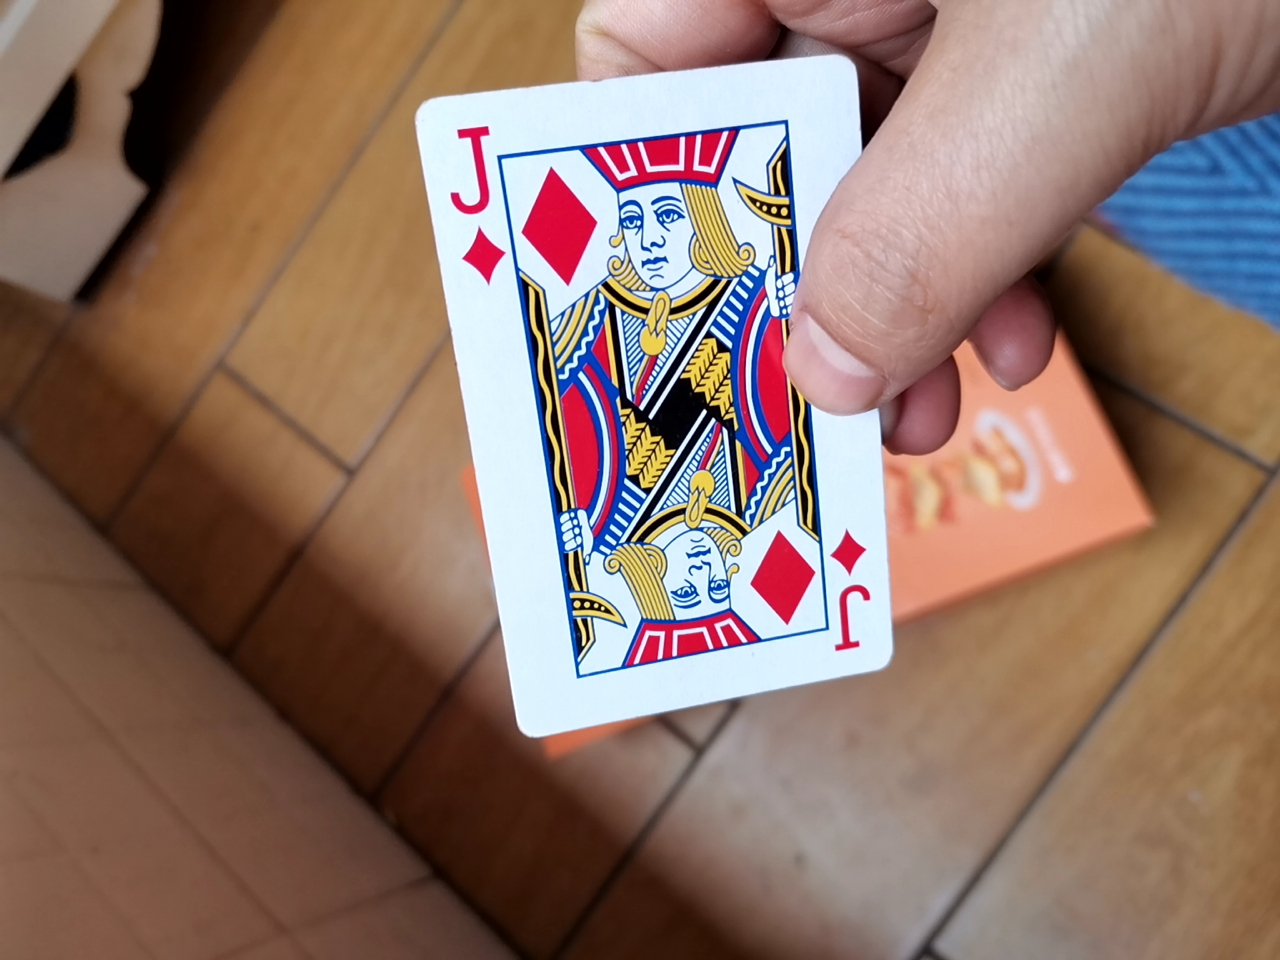fk j: (418, 42, 905, 741)
